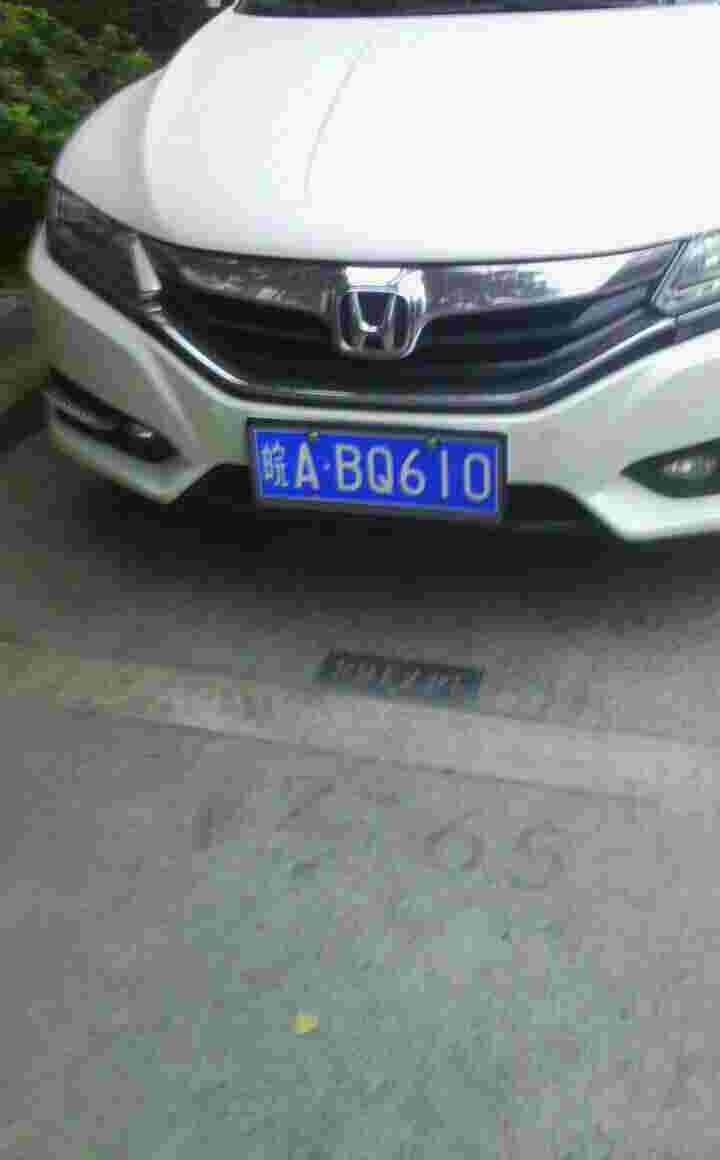license_plate: (258, 424, 498, 516)
